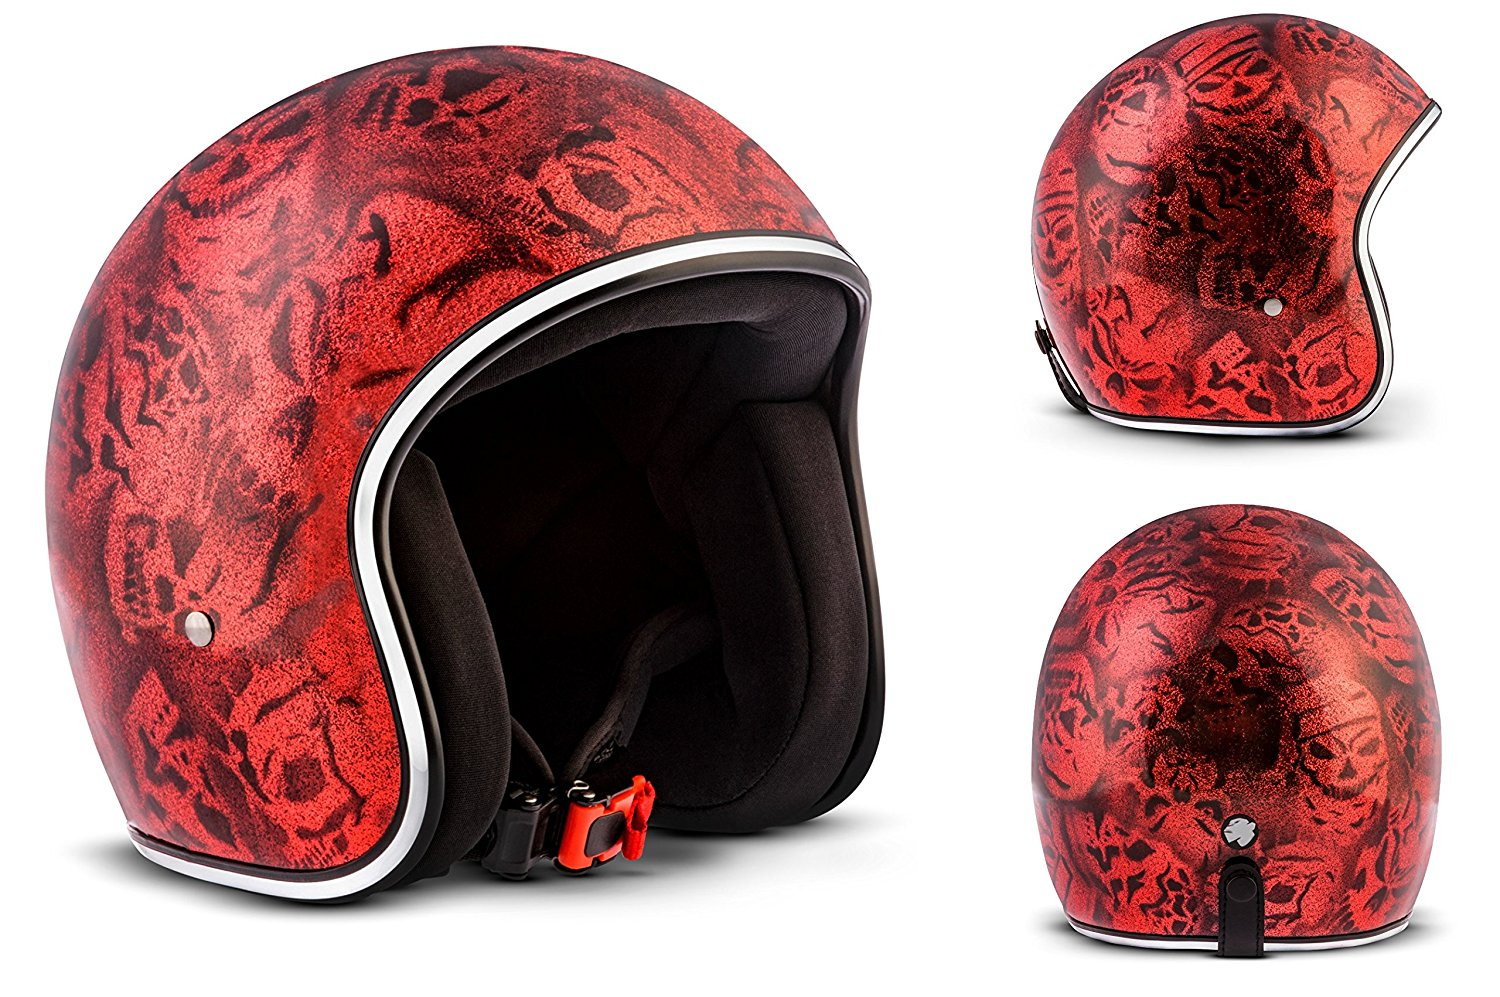with_helmet: (55, 42, 897, 924), (1033, 502, 1444, 952), (1032, 14, 1447, 434)
